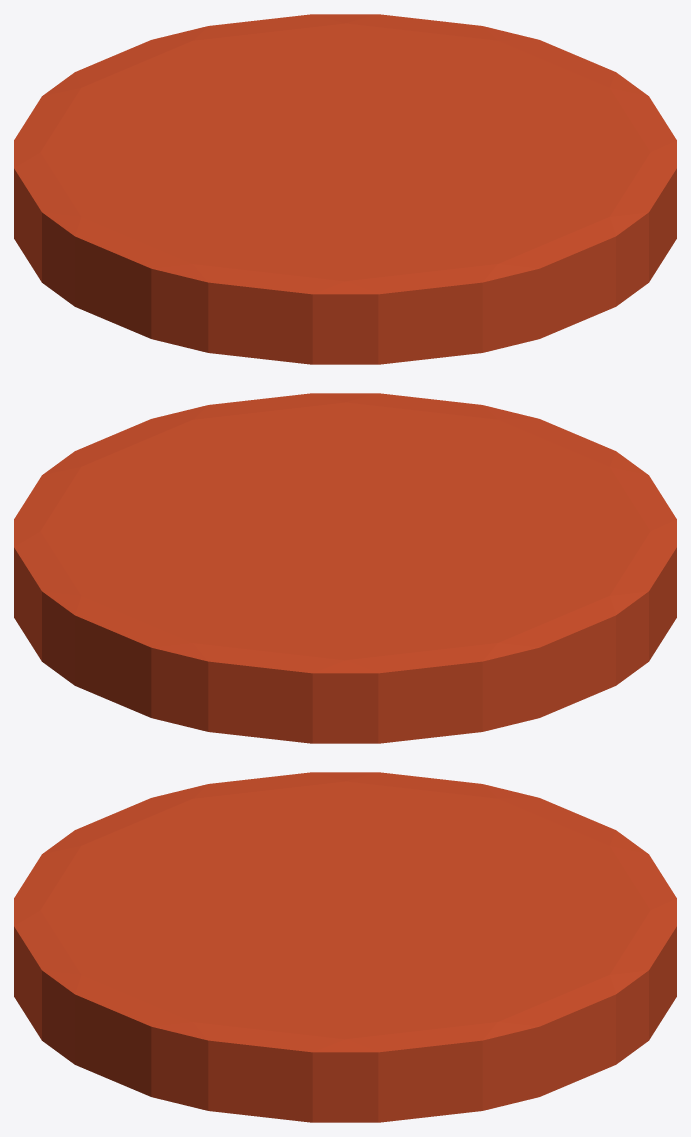
File: Base_brazo.dae
3 renders of one model, top to bottom at view 1: azimuth 30°, elevation 25°; view 2: azimuth 150°, elevation 25°; view 3: azimuth 270°, elevation 25°, orthographic.
Parts seen in each view (by area): view 1: node0; view 2: node0; view 3: node0.
Boxes of the visible parts, left/top/right/bottom form: node0: left=14, top=14, right=676, bottom=364; node0: left=14, top=393, right=676, bottom=743; node0: left=14, top=772, right=676, bottom=1122.
Bounding box in the file's own units: 7.5 × 7.5 × 0.9264.
